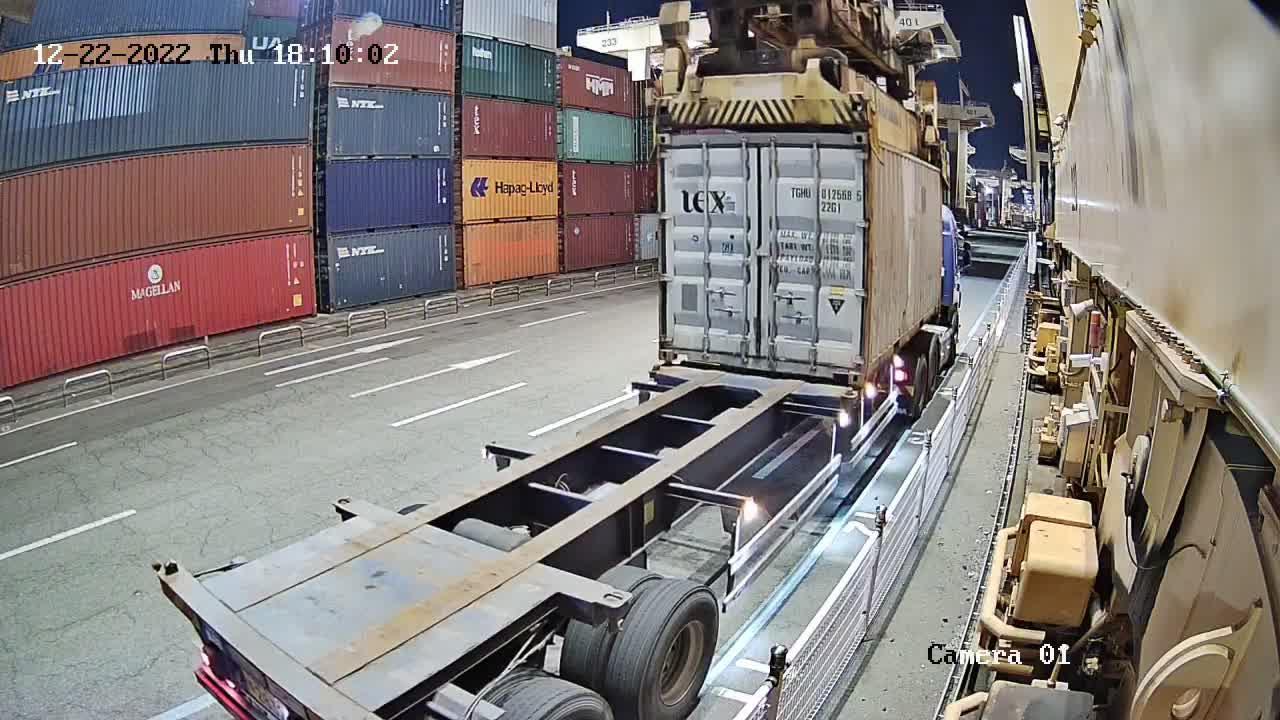Chassis: (650, 365, 855, 401)
Cone: (841, 386, 853, 398), (650, 363, 663, 372)
Hole_L: (658, 337, 685, 362)
Hole_R: (832, 353, 864, 384)
Tire: (915, 357, 929, 410), (931, 338, 941, 385)
